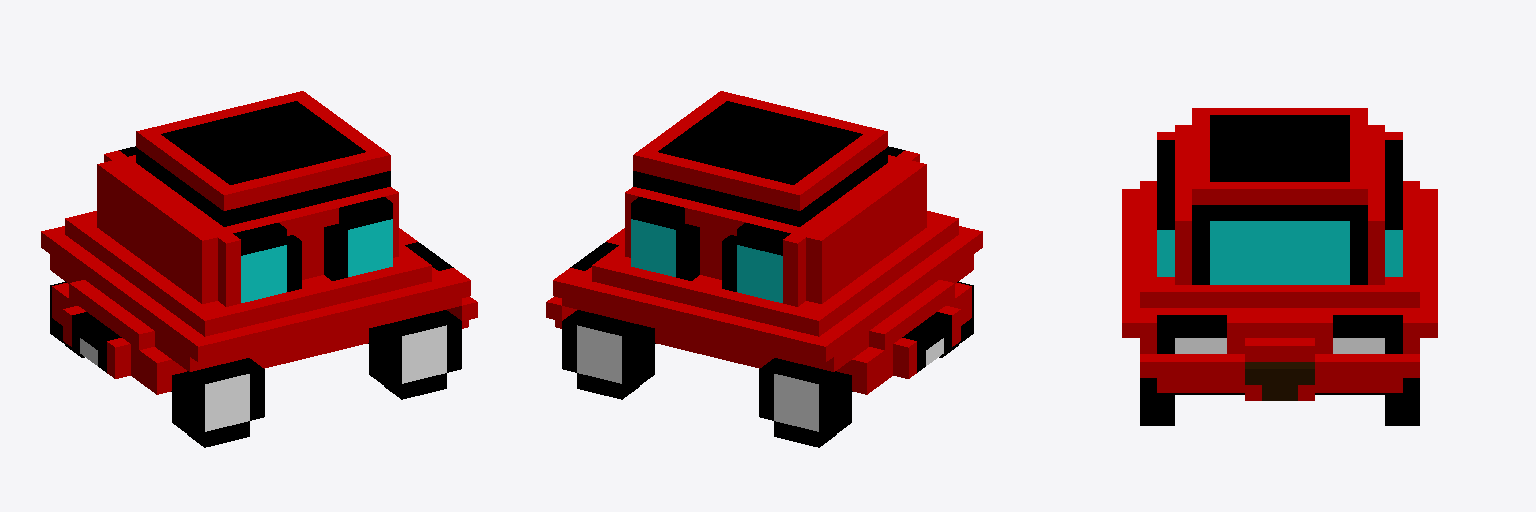
The picture shows the model from 3 angles: view 1: azimuth 30°, elevation 25°; view 2: azimuth 150°, elevation 25°; view 3: azimuth 270°, elevation 25°; orthographic projection.
Visible parts, largest first — view 1: object 1; view 2: object 1; view 3: object 1.
Part boxes in pixels (bbox=[...]): object 1: bbox=[41, 91, 477, 447]; object 1: bbox=[546, 91, 982, 447]; object 1: bbox=[1122, 108, 1437, 425].
Size of the model in its own units: 2.2 by 1.4 by 1.8.
Materials: 1 (1 with a texture image).